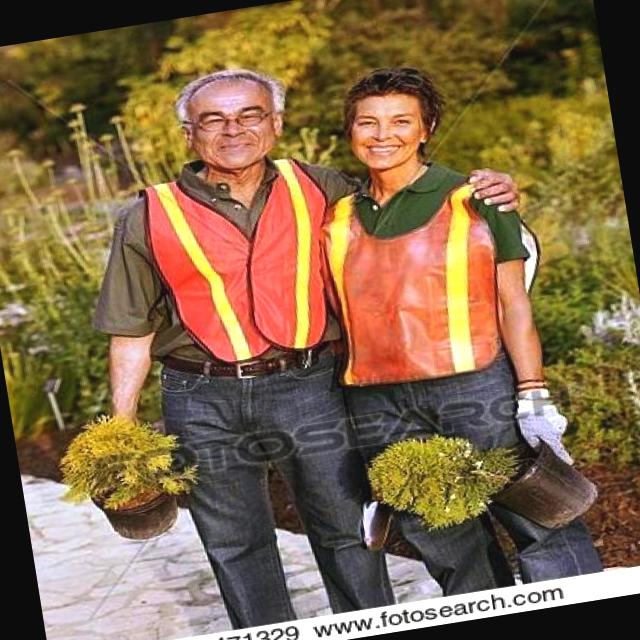vest: (308, 155, 539, 390), (152, 152, 346, 378)
